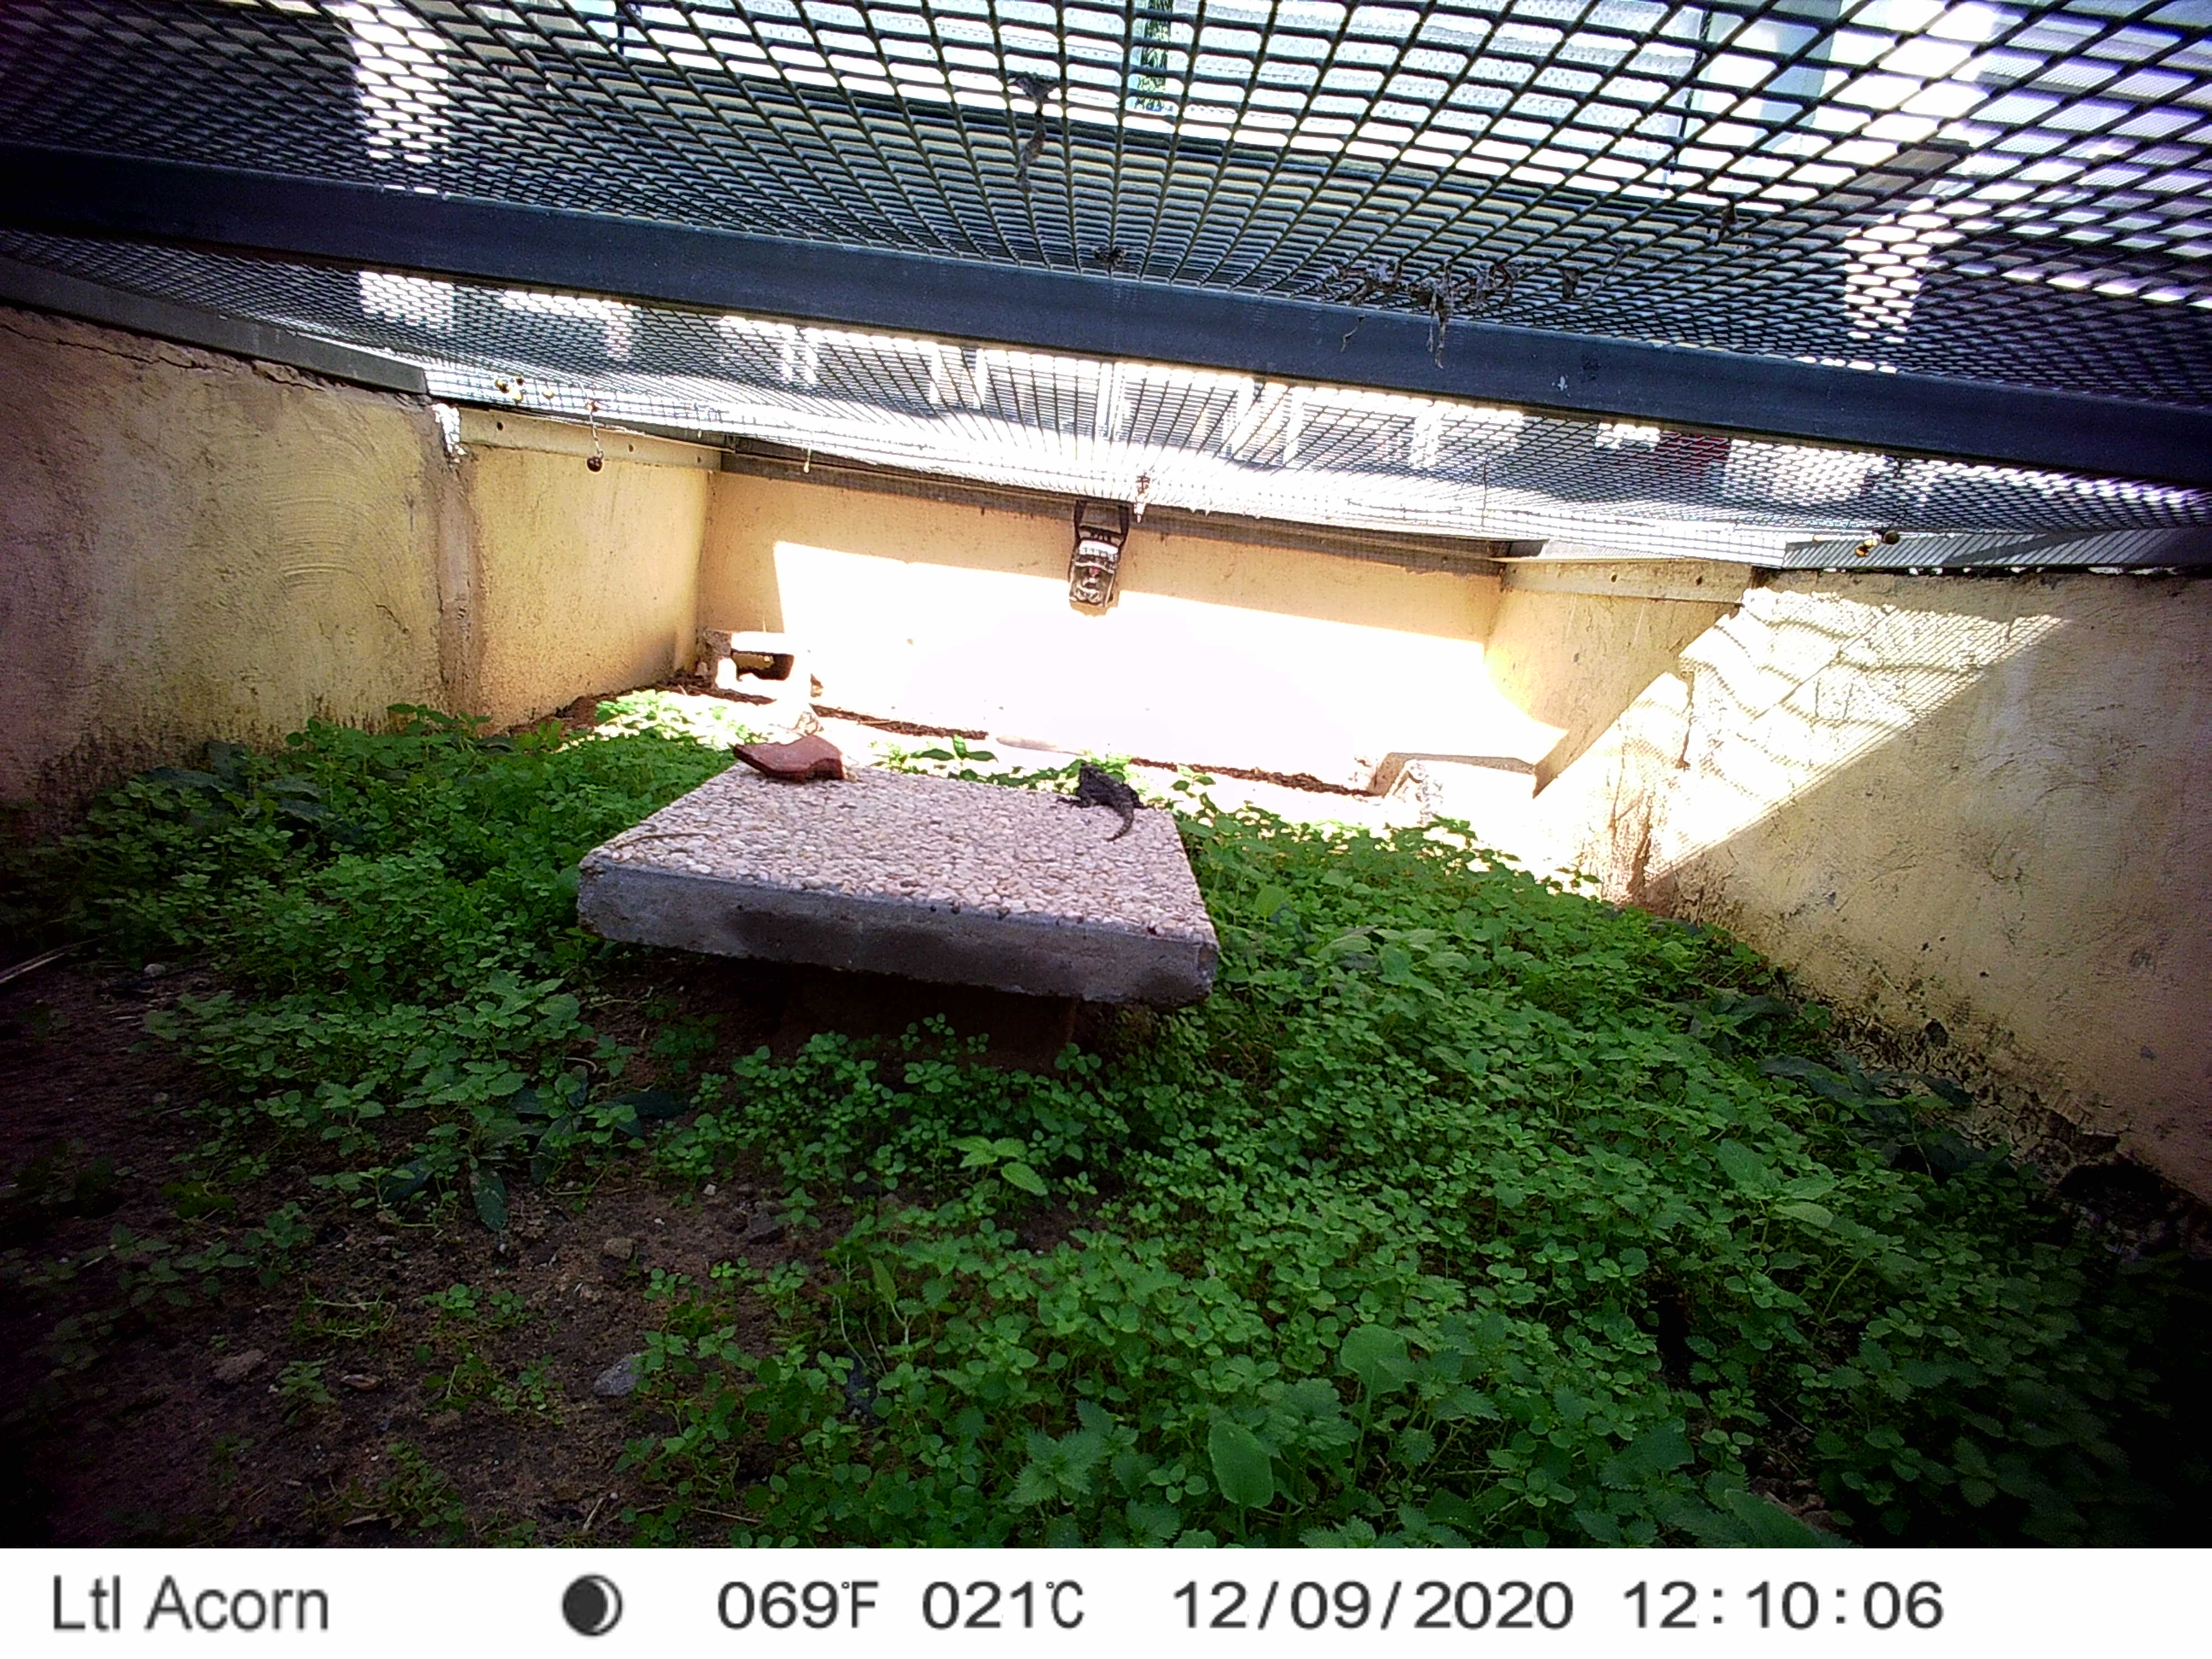lizard: (1057, 760, 1155, 843)
